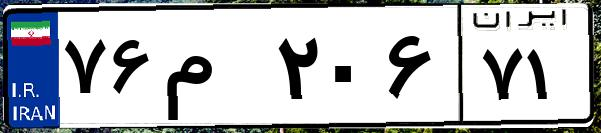0: (330, 28, 385, 110)
1: (525, 38, 570, 115)
2: (270, 28, 330, 110)
6: (385, 28, 445, 110), (110, 28, 158, 98)
7: (57, 26, 110, 100), (475, 38, 525, 113)
م: (158, 20, 270, 120)
